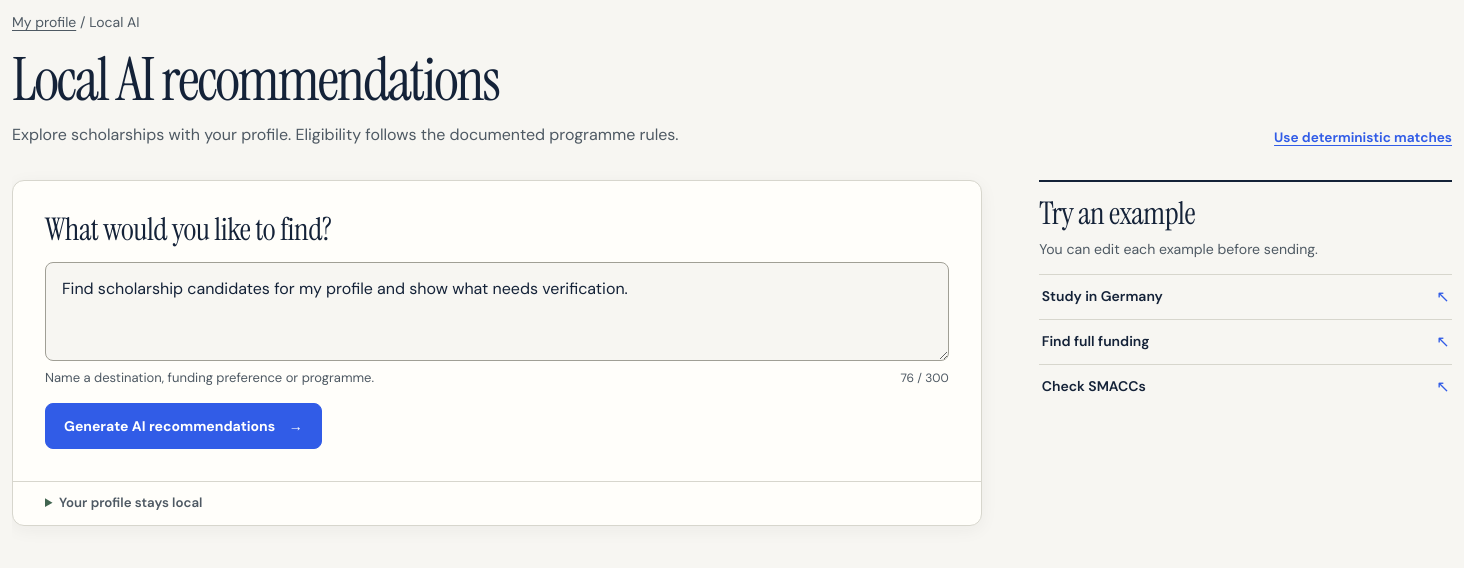
local agent recommendations › fills an editable example, clears validation and waits for explicit submission
Later steps or results of the test are not shown.
Clear the text box labelled "What would you like to find?" at (497, 312), box [45,262,949,361]
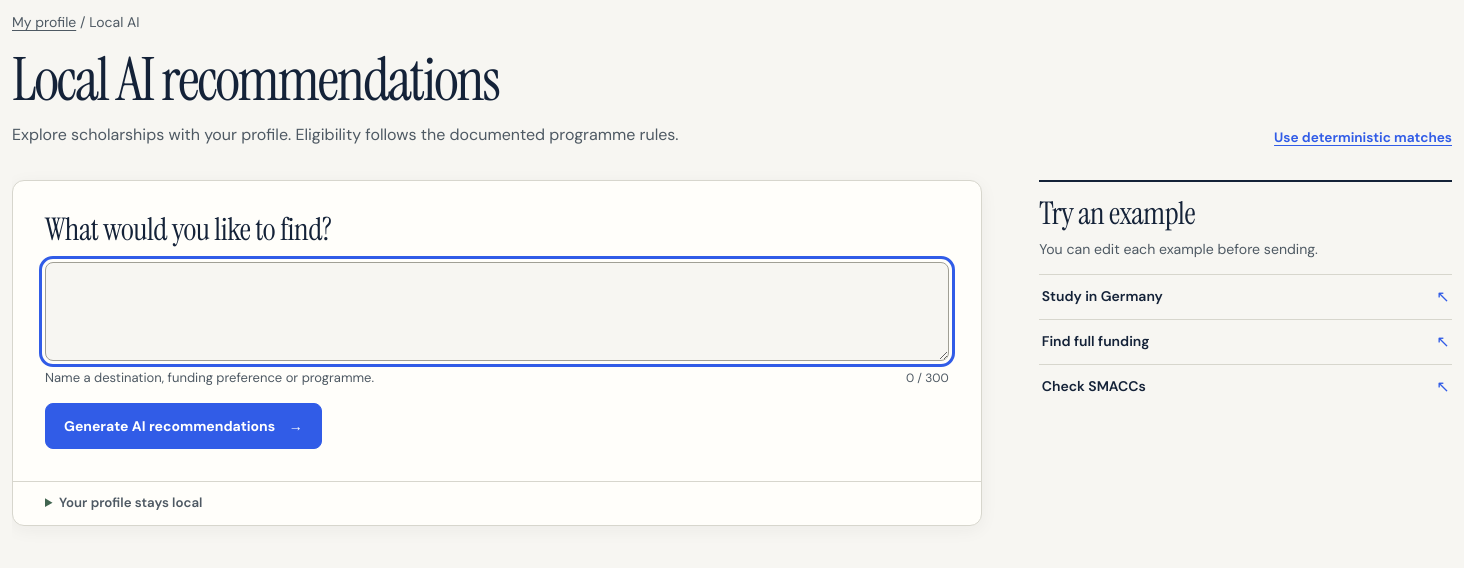
Click the button "Generate AI recommendations →" at (183, 426), box [45,403,322,449]
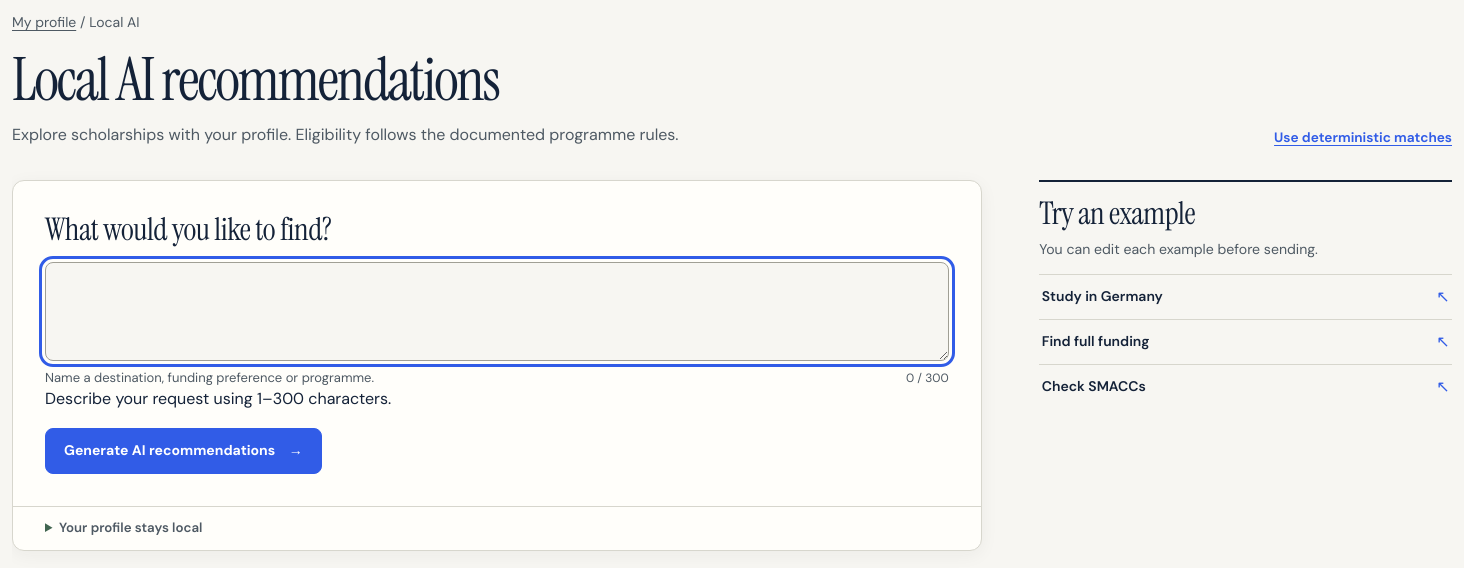
Click the button "Study in Germany ↖" at (1102, 296), box [1039,274,1452,319]
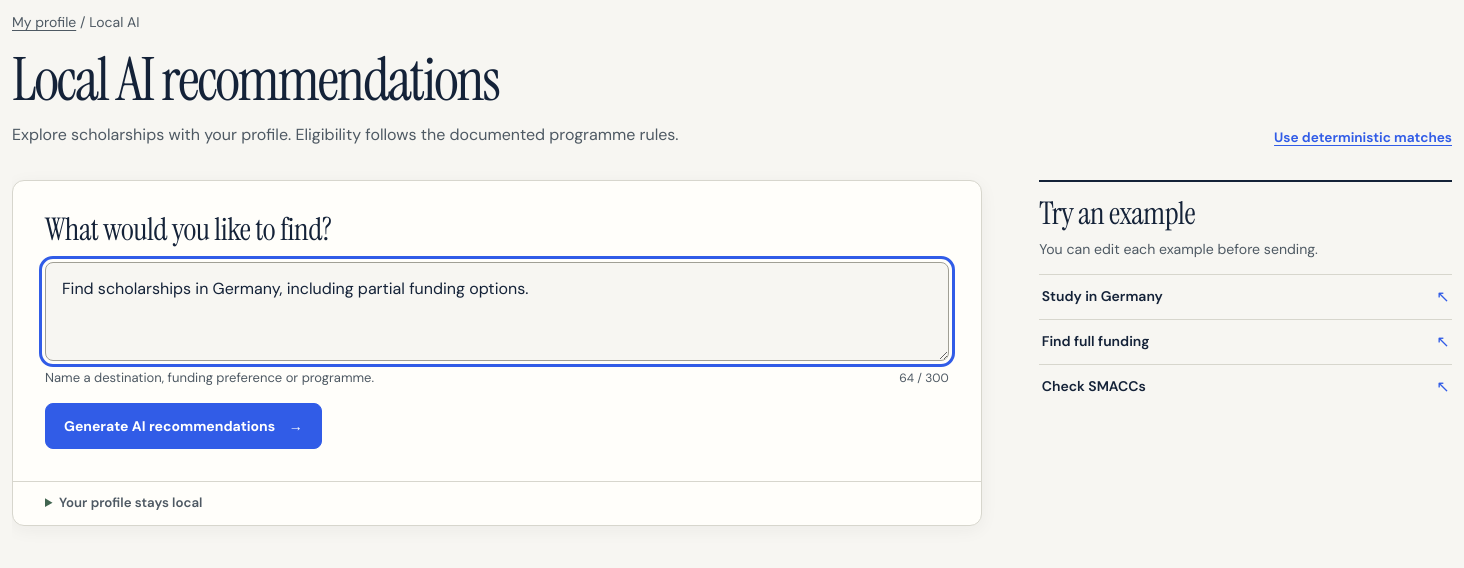
Check: the text box labelled "What would you like to find?" holds "Find scholarships in Germany, including partial funding options.", box [45,262,949,361]
